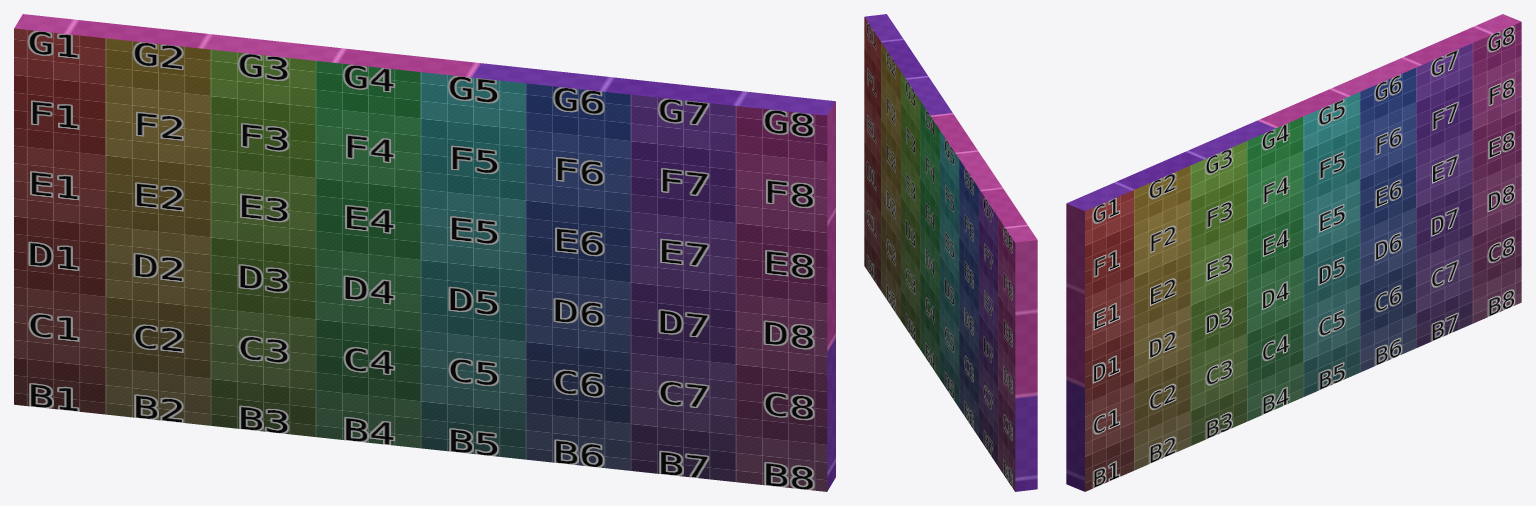
The model's file is CartelRandom.glb.
The picture shows the model from 3 angles, left to right: view 1: azimuth 30°, elevation 25°; view 2: azimuth 150°, elevation 25°; view 3: azimuth 270°, elevation 25°; orthographic projection. The views are drawn at different scales.
Parts seen in each view (by area): view 1: 1; view 2: 1; view 3: 1.
Part boxes in pixels (bbox=[...]): 1: bbox=[14, 14, 835, 491]; 1: bbox=[864, 14, 1037, 491]; 1: bbox=[1066, 14, 1521, 491].
Bounding box in the file's own units: 1.17 × 0.7745 × 1.14.
1 material, 1 textured.
